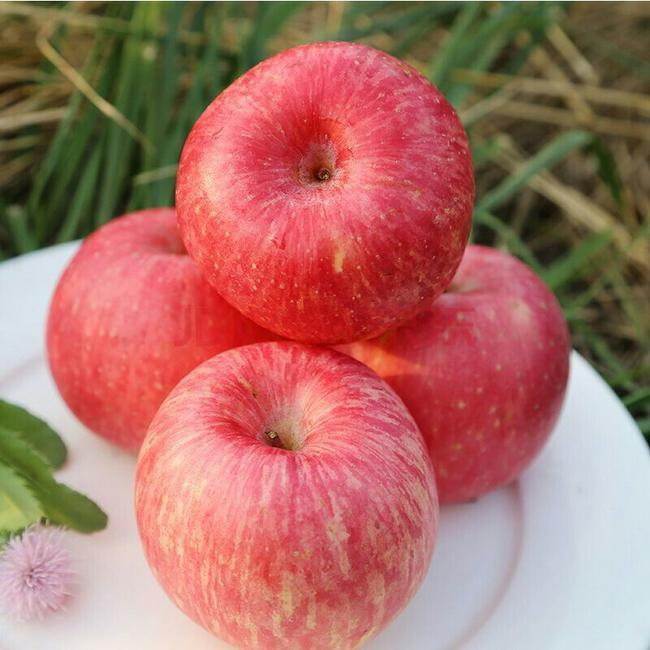apple: (129, 347, 446, 650), (180, 44, 479, 347), (343, 243, 574, 506), (39, 208, 261, 448)
